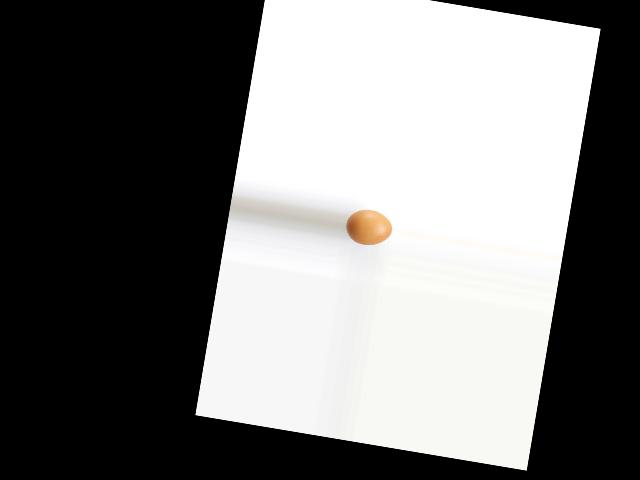egg: (343, 207, 394, 249)
